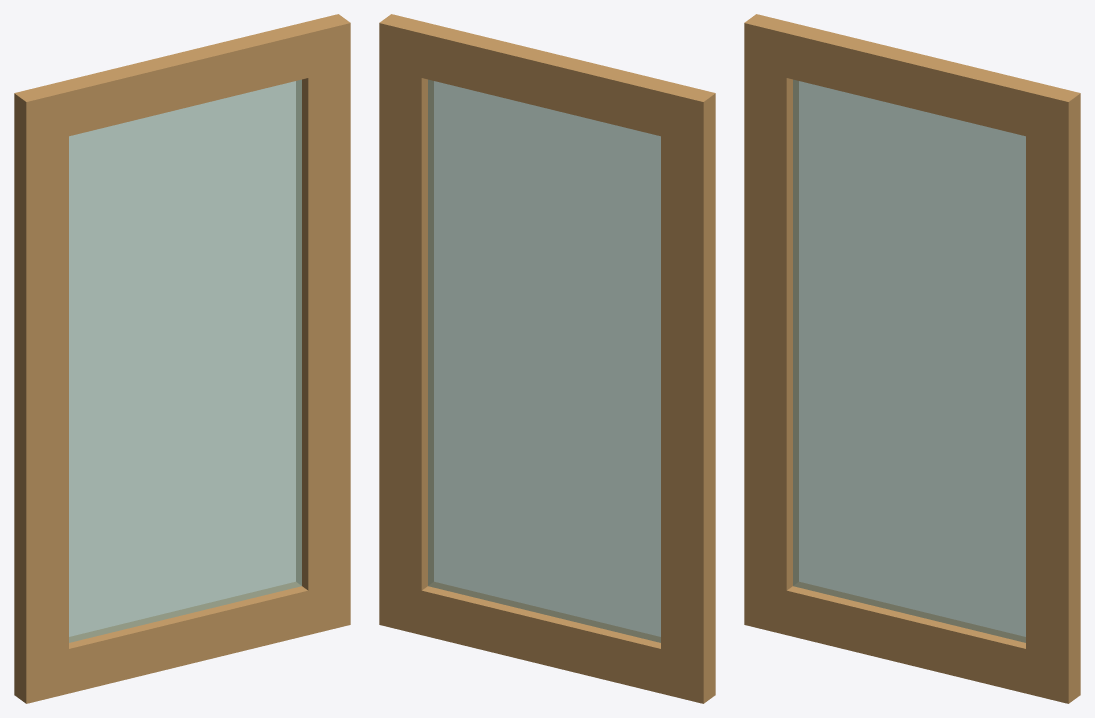
Rendered from Window.fbx.
The picture shows the model from 3 angles, left to right: view 1: azimuth 30°, elevation 25°; view 2: azimuth 150°, elevation 25°; view 3: azimuth 330°, elevation 25°; orthographic projection.
Parts seen in each view (by area): view 1: window; view 2: window; view 3: window.
Boxes of the visible parts, x1,y1,x2,y2 form: window: [14, 14, 350, 703]; window: [379, 14, 715, 703]; window: [744, 14, 1080, 703].
Bounding box in the file's own units: 3.75 × 6.64 × 0.2455.
